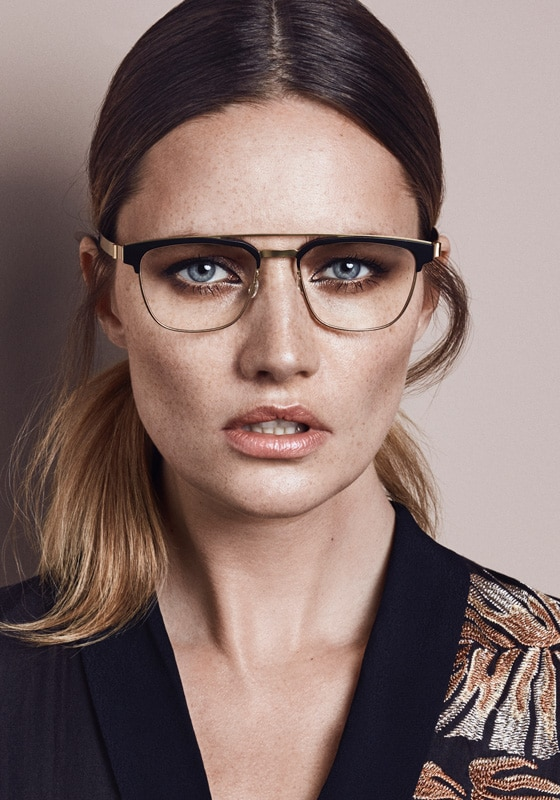llen: (299, 242, 417, 331)
rlen: (139, 243, 258, 331)
